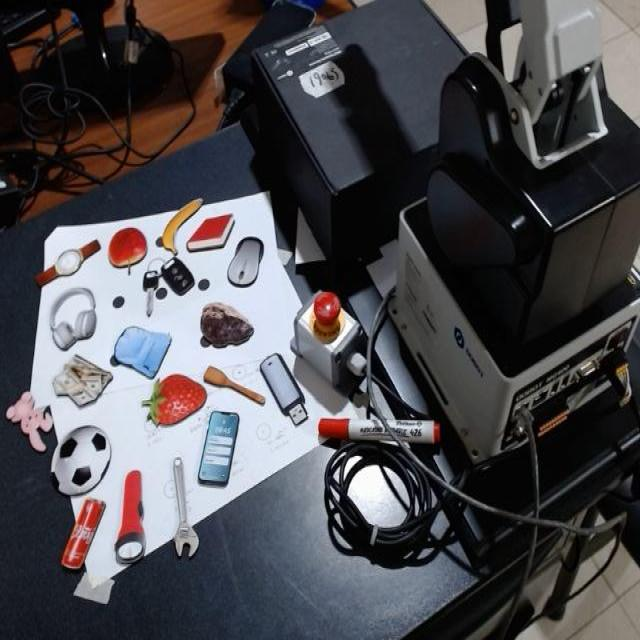Other Objects: (596, 0, 639, 124), (254, 345, 314, 433), (133, 243, 196, 316), (110, 311, 172, 384), (51, 426, 111, 495), (163, 456, 201, 561), (31, 236, 104, 289), (60, 496, 105, 569), (197, 409, 239, 487), (201, 362, 266, 410), (49, 285, 96, 351), (53, 355, 112, 407), (425, 0, 484, 52), (5, 389, 53, 452), (115, 470, 144, 563), (199, 301, 253, 347), (161, 197, 203, 255), (107, 227, 147, 269), (228, 238, 263, 286), (494, 20, 521, 77)
